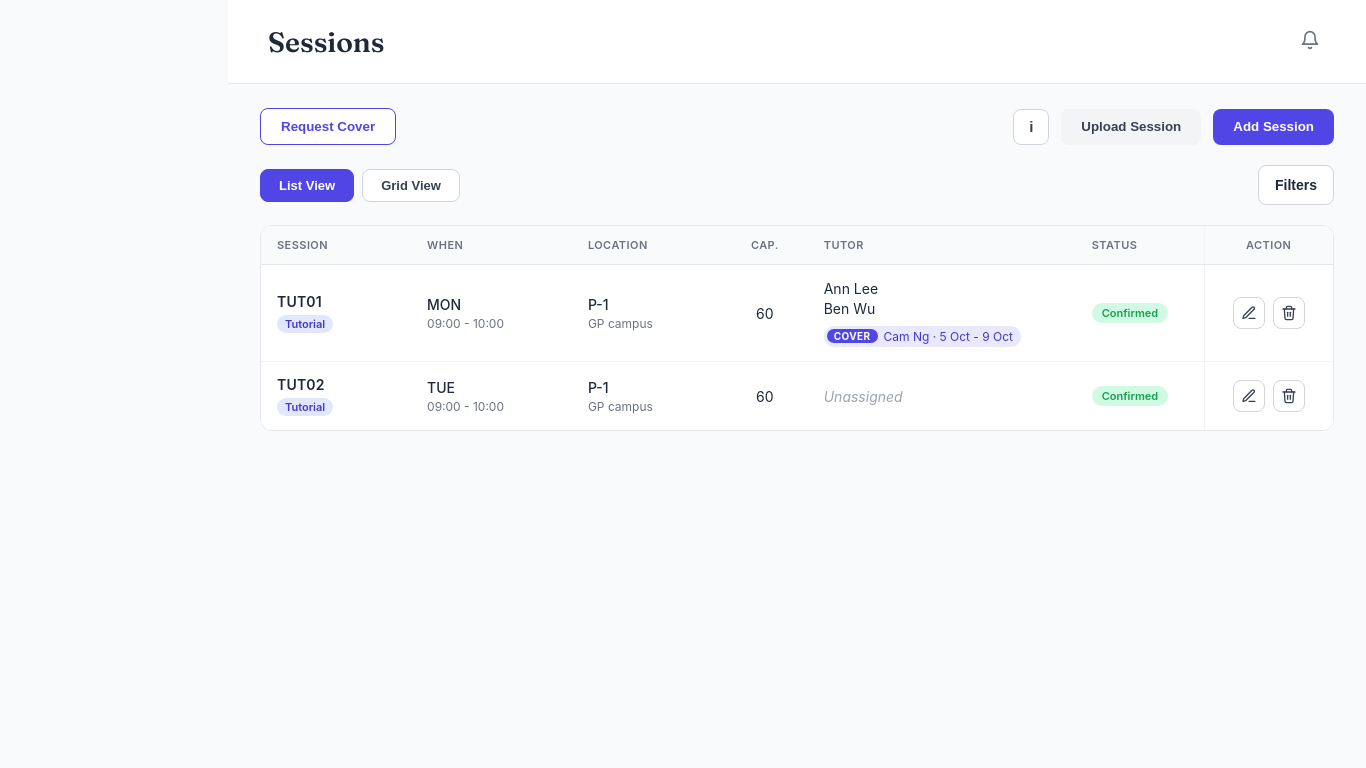
FE-32 Send passes the dates and which tutor is away
This screenshot has width=1366, height=768.
Expected: the text "TUT01" is shown, [277, 293, 322, 310]
Click the button "Request Cover" at [328, 126], box [260, 108, 396, 145]
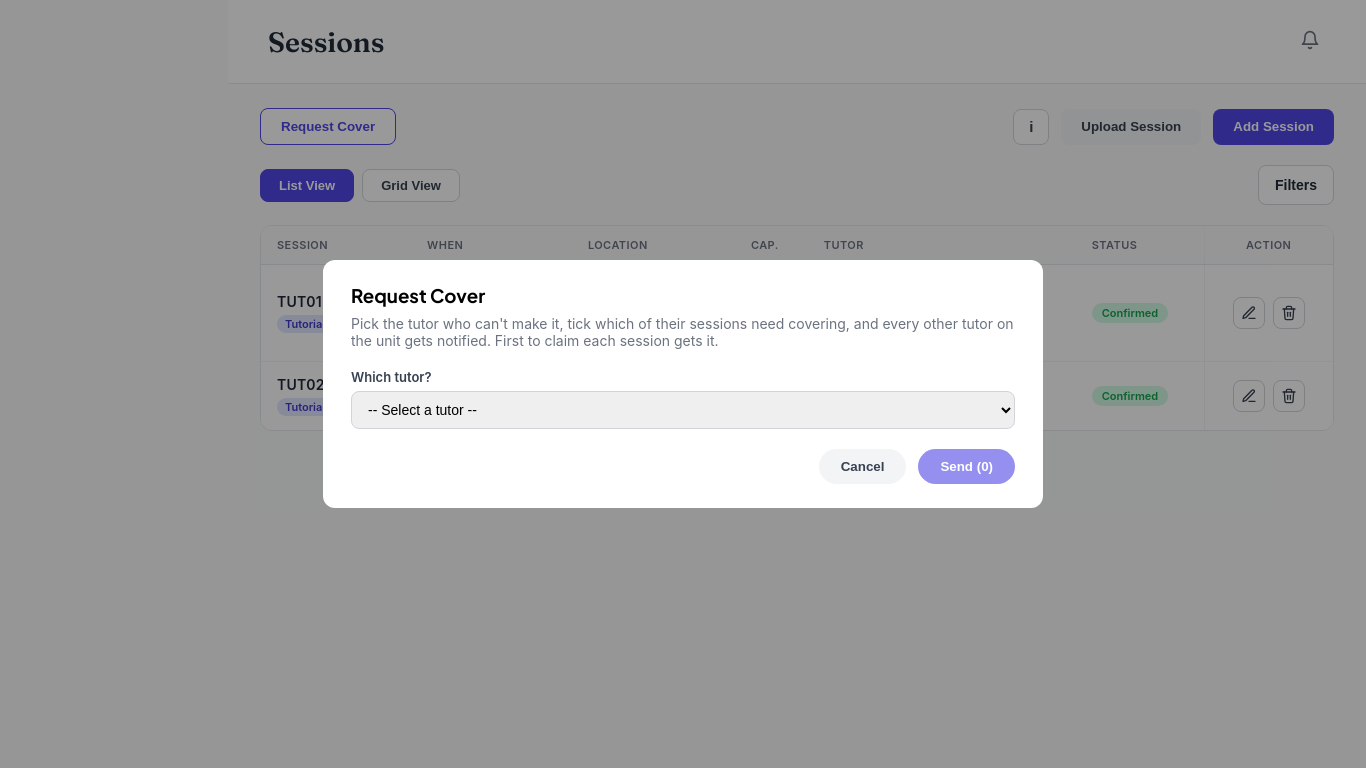
Select "Ben Wu" in the dropdown at [683, 410], box [351, 391, 1015, 429]
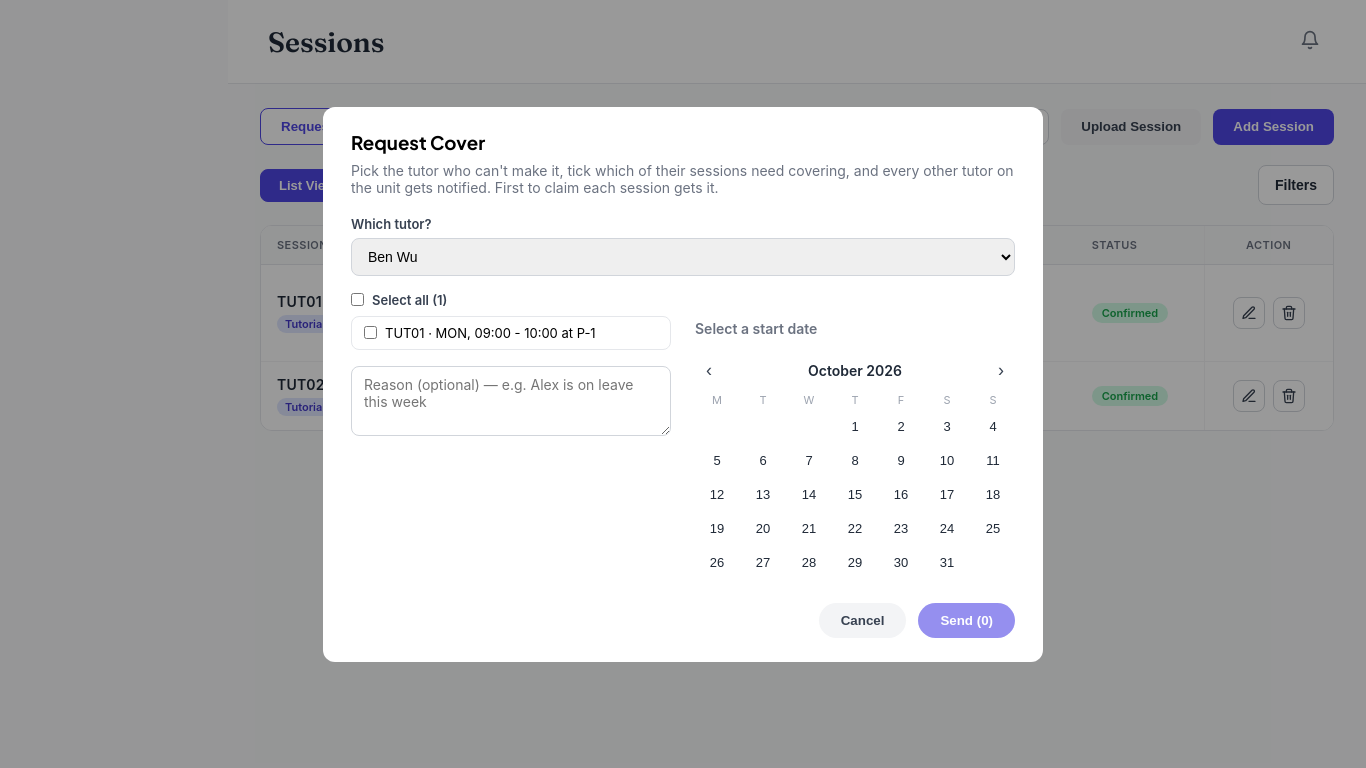
Click the checkbox labelled "TUT01 · MON, 09:00 - 10:00 at P-1" at [370, 332], box [364, 326, 377, 339]
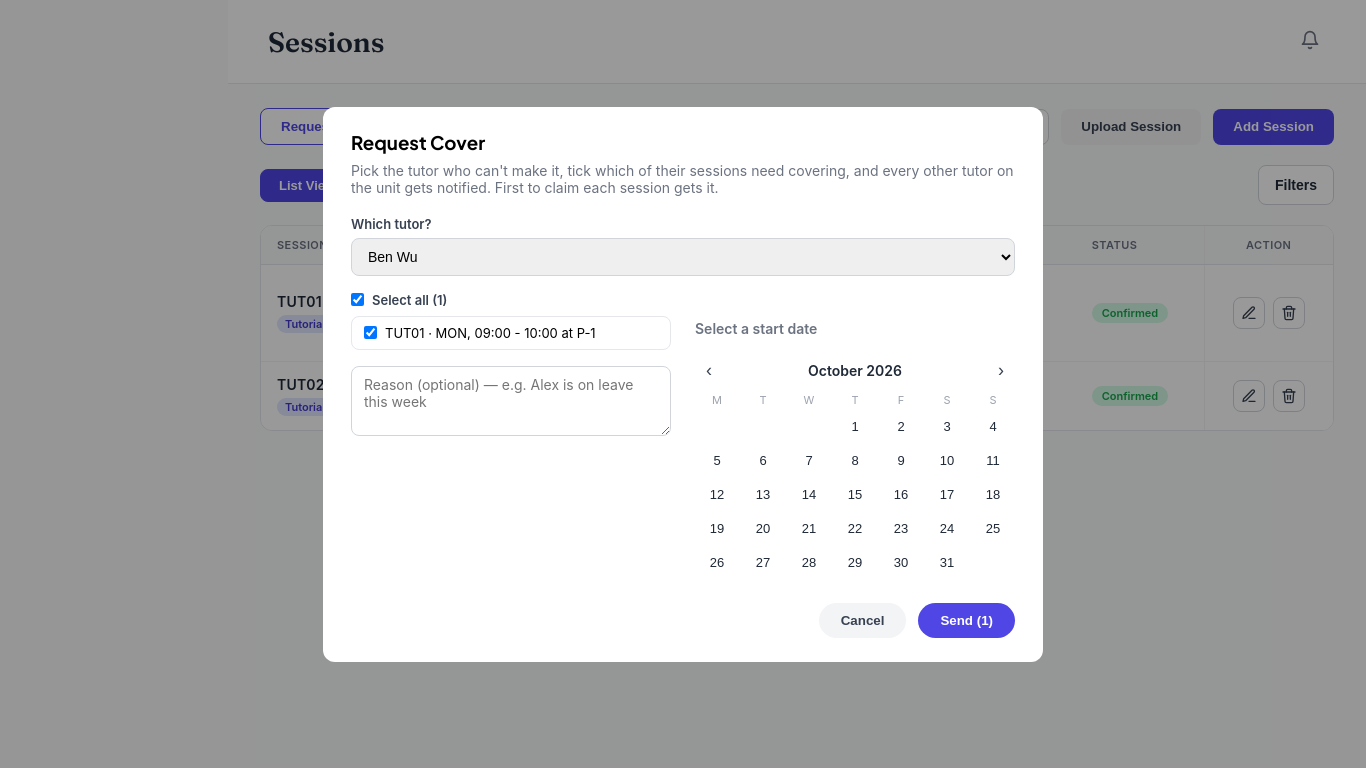
Click the button "20" at [763, 528], box [741, 512, 785, 544]
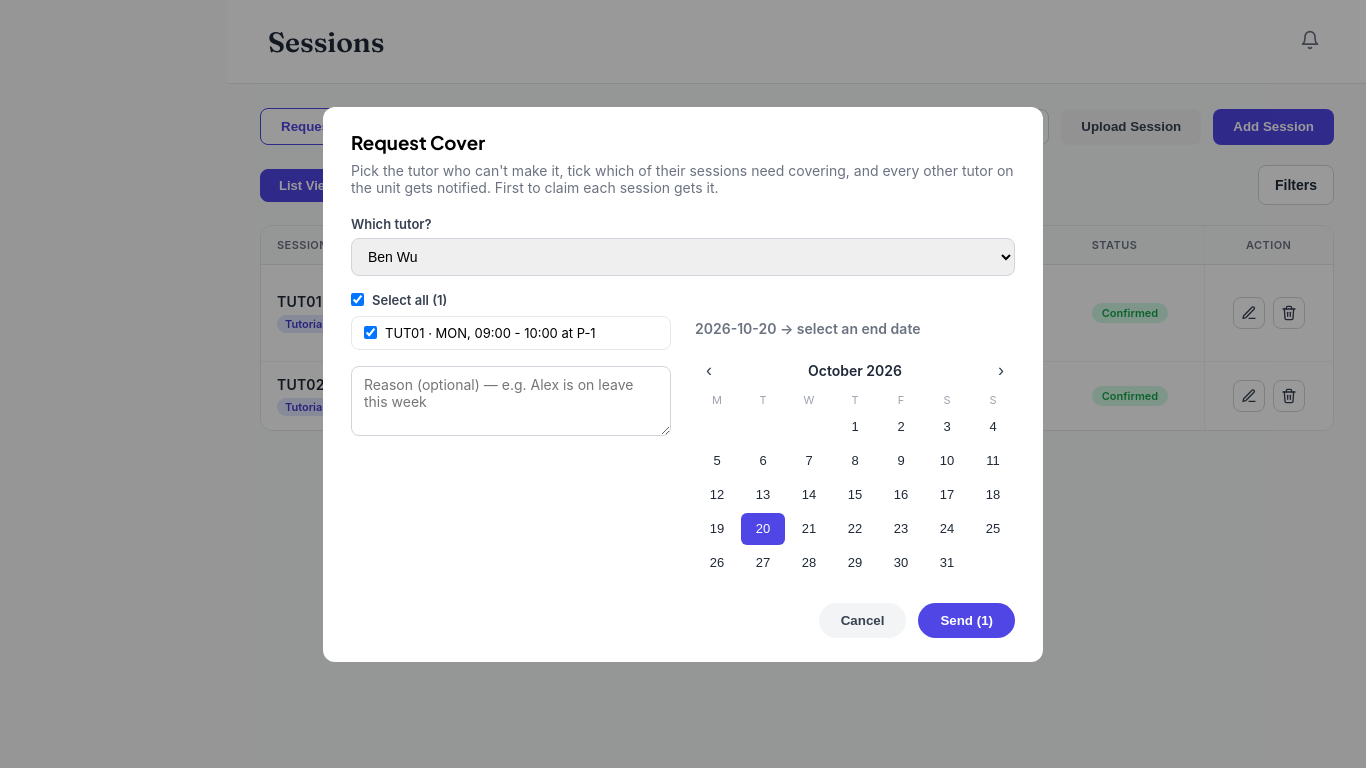
Click the button "20" at [763, 528], box [741, 512, 785, 544]
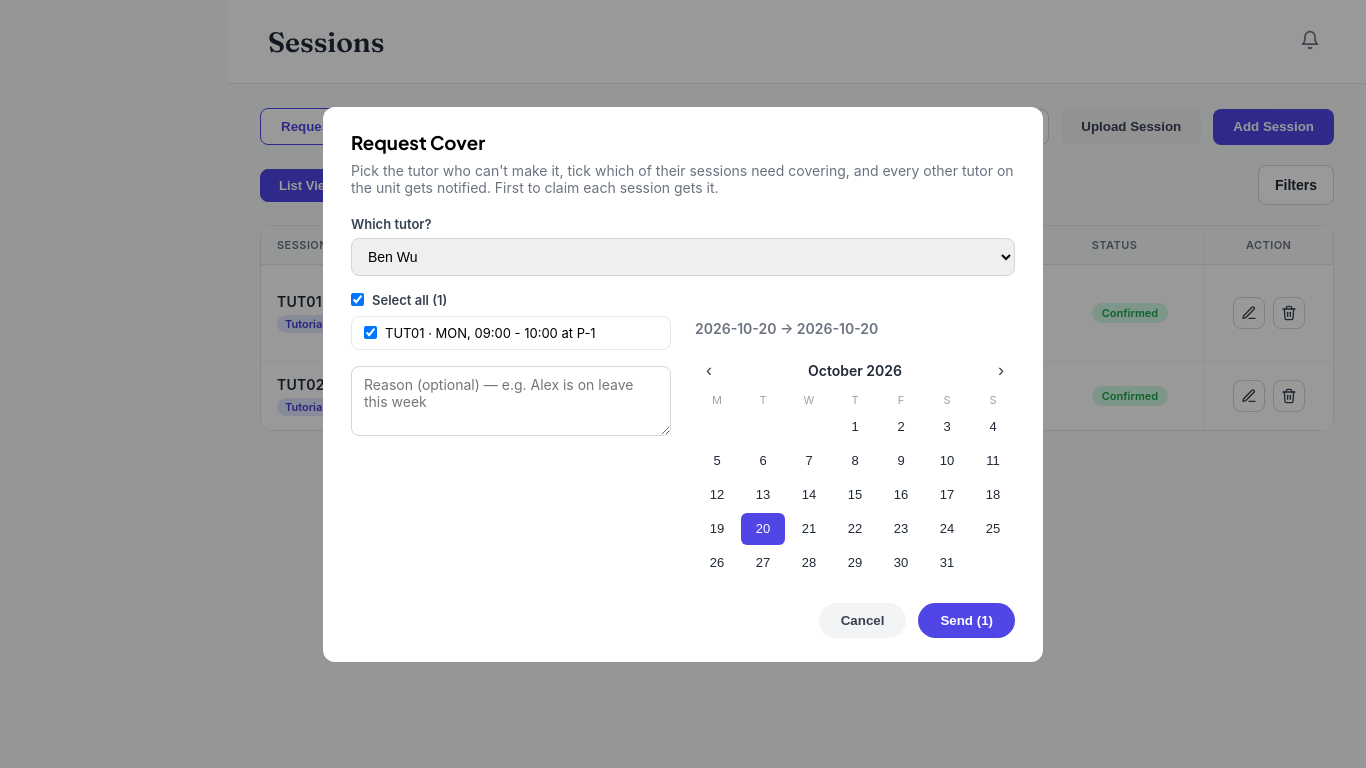
Click the button "Send (1)" at [967, 620], box [918, 602, 1015, 638]
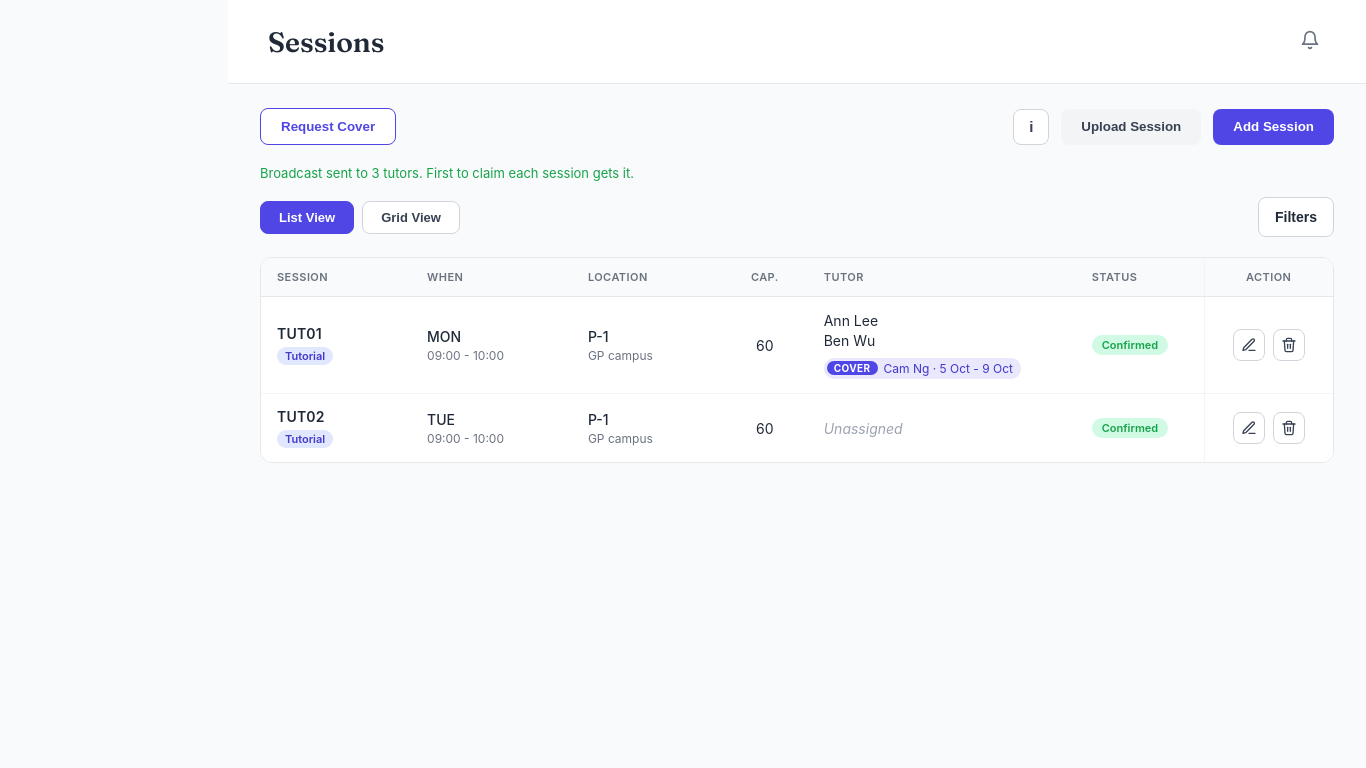
Expected: the text "Broadcast sent to 3 tutors" is shown, [260, 165, 634, 181]
